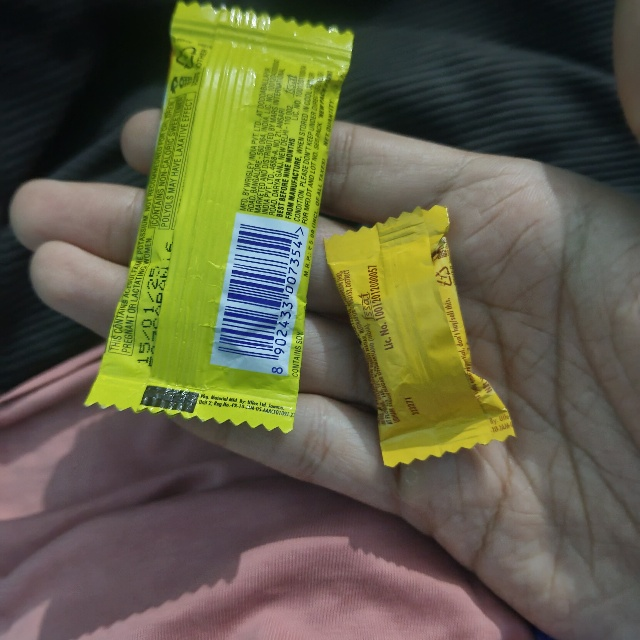Alpenlibe Creamfills: (320, 236, 448, 482)
Orbit: (173, 0, 354, 412)
